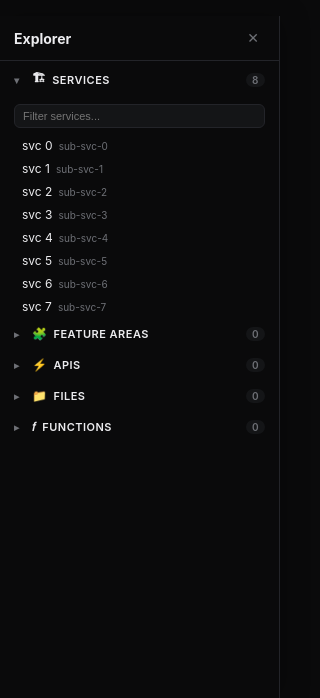
ExplorerSidebar › Escape clears the filter
Type "svc 2" into the field with placeholder "Filter services...".
click(140, 116); type("svc 2")  # box [14,104,265,128]
Wait 150 ms
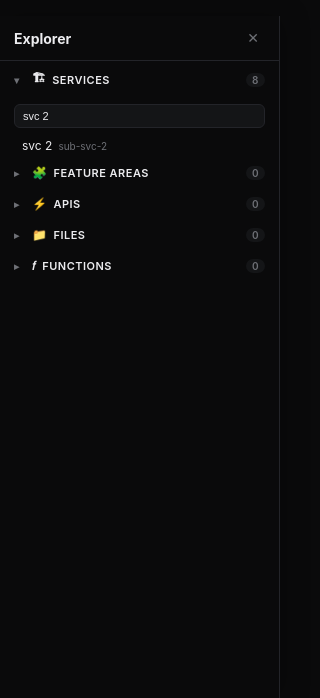
Expected: the option "svc 0" is gone
// Press Escape on the section
Press Escape in the element "Services", box [0,61,279,157]
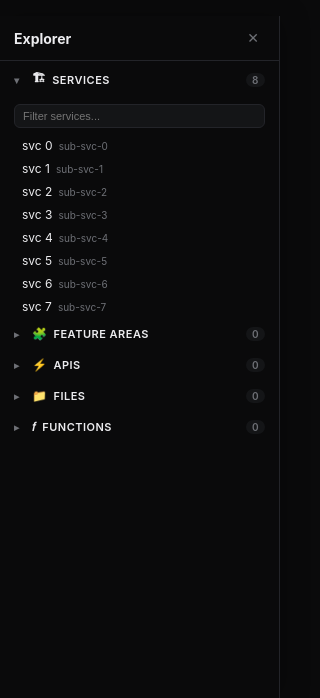
Expected: the text "svc 0" is shown, [22,138,53,153]
Expected: the text "svc 7" is shown, [22,299,52,314]
